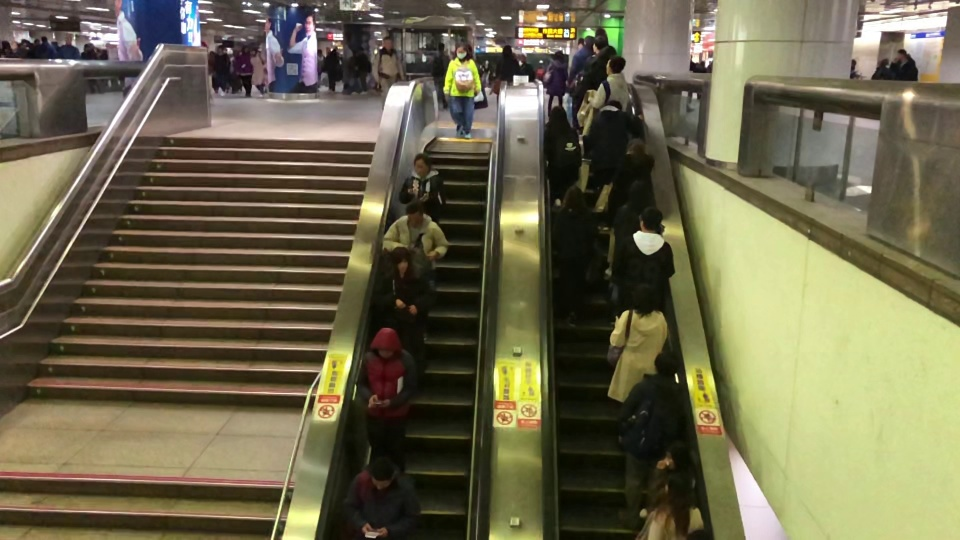person_head: (368, 327, 402, 360), (366, 457, 400, 490), (663, 477, 692, 511), (628, 285, 658, 316), (638, 208, 663, 234), (389, 246, 410, 276), (650, 451, 676, 473), (404, 202, 424, 229), (654, 352, 676, 376), (633, 157, 653, 181), (413, 153, 432, 177), (605, 56, 626, 75), (547, 106, 568, 123), (595, 46, 618, 60), (565, 194, 581, 211), (453, 43, 469, 59), (628, 136, 642, 154), (498, 46, 514, 61), (594, 37, 608, 51), (604, 100, 621, 111), (1, 39, 14, 53), (382, 36, 394, 49), (553, 50, 565, 63), (895, 48, 907, 60), (63, 34, 74, 46), (583, 35, 595, 46), (878, 57, 890, 68), (38, 35, 50, 45), (518, 51, 528, 63), (240, 45, 250, 54), (850, 58, 857, 65), (217, 45, 223, 53), (262, 69, 268, 74)
person_vbox: (352, 327, 420, 487), (628, 352, 695, 471), (606, 158, 660, 305), (374, 246, 431, 380), (606, 285, 668, 407), (335, 456, 423, 540), (581, 100, 648, 210), (549, 194, 599, 329), (613, 208, 671, 320), (604, 136, 661, 230), (382, 202, 449, 270), (637, 451, 693, 531), (541, 106, 582, 207), (441, 42, 481, 138), (644, 477, 705, 539), (398, 153, 447, 225), (576, 46, 618, 116), (372, 36, 405, 112), (592, 56, 630, 112), (494, 46, 521, 117), (543, 50, 569, 120), (570, 35, 597, 81), (887, 47, 920, 83), (233, 45, 254, 98), (211, 45, 231, 97), (583, 37, 612, 62), (868, 58, 893, 81), (37, 34, 59, 60), (518, 51, 536, 82), (61, 33, 79, 59), (256, 68, 269, 97), (0, 39, 18, 58), (849, 58, 861, 79)
